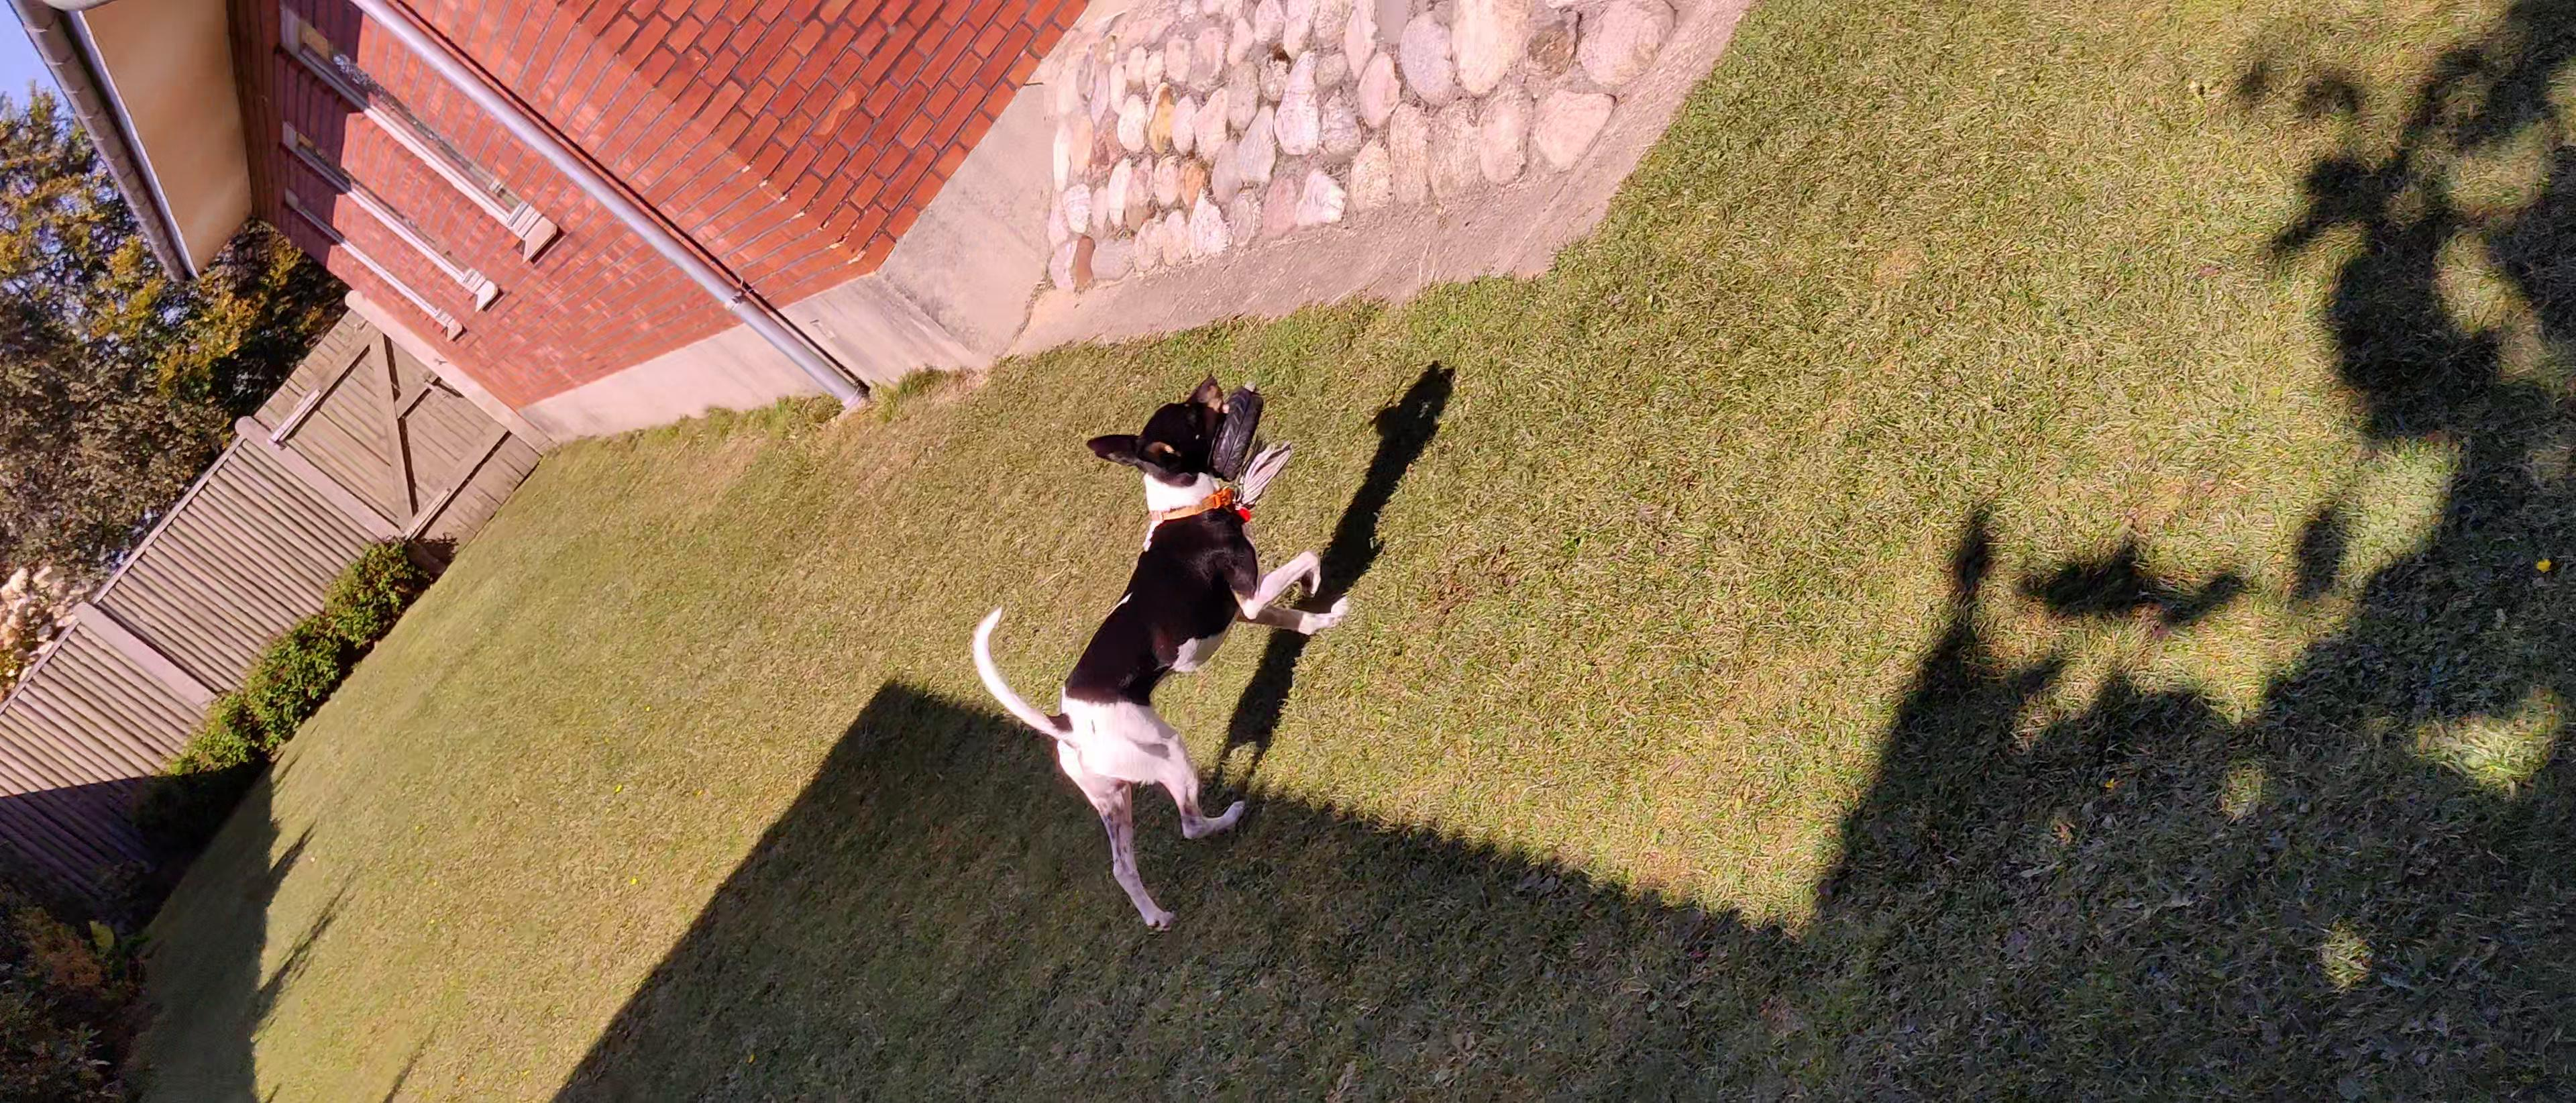Dog: (963, 368, 1357, 935)
